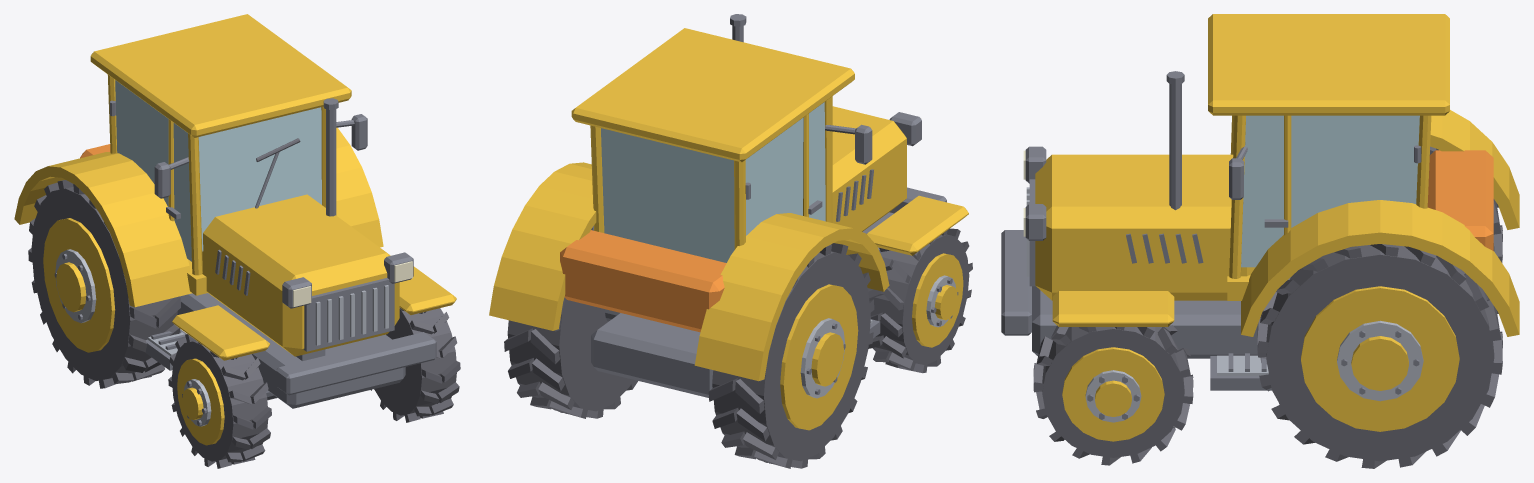
File: TractorBody.fbx
3 views of the same model, side by side, from view 1: azimuth 30°, elevation 25°; view 2: azimuth 150°, elevation 25°; view 3: azimuth 270°, elevation 25° (orthographic). The views are drawn at different scales.
Parts seen in each view (by area): view 1: body, wheel_rr, wheel_fr, wheel_fl; view 2: body, wheel_rr, wheel_fr, wheel_rl; view 3: body, wheel_rl, wheel_fl.
Boxes of the visible parts, x1,y1,x2,y2 form: body: (14,14,456,408); wheel_rr: (28,180,180,388); wheel_fr: (168,334,271,468); wheel_fl: (371,307,460,422); body: (489,14,968,397); wheel_rr: (708,243,874,468); wheel_fr: (868,228,972,373); wheel_rl: (504,226,637,418); body: (1001,14,1519,390); wheel_rl: (1257,244,1502,468); wheel_fl: (1033,325,1193,465).
Bounding box in the file's own units: 2.51 × 2.81 × 3.75.
